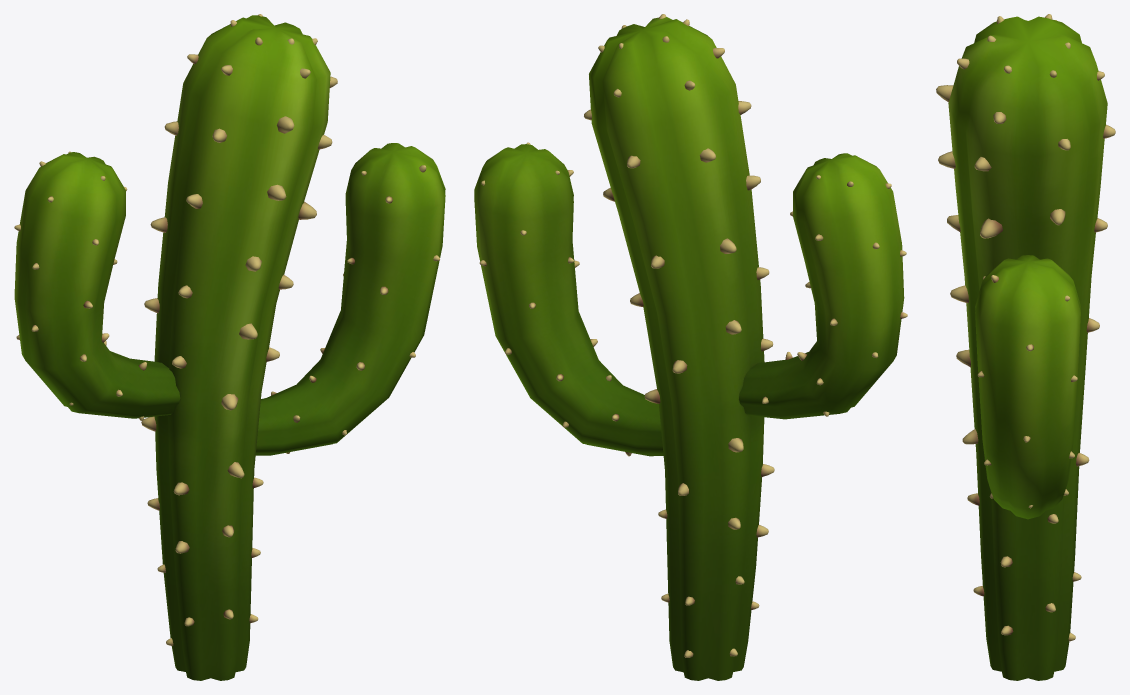
Rendered from cactus.fbx.
The picture shows the model from 3 angles, left to right: view 1: azimuth 30°, elevation 25°; view 2: azimuth 150°, elevation 25°; view 3: azimuth 270°, elevation 25°; orthographic projection. The views are drawn at different scales.
Visible parts, largest first — view 1: Sphere002_Material #25_0; view 2: Sphere002_Material #25_0; view 3: Sphere002_Material #25_0.
Part boxes in pixels (x1,y1,x2,y2): Sphere002_Material #25_0: (14, 14, 445, 680); Sphere002_Material #25_0: (474, 14, 907, 680); Sphere002_Material #25_0: (936, 14, 1115, 680).
Bounding box in the file's own units: 6932 × 9929 × 2417.
1 material, 1 textured.
